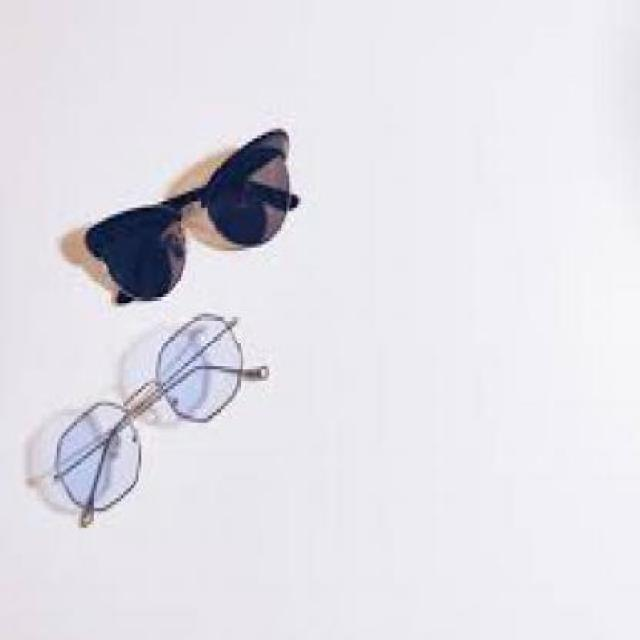gozluk: (76, 111, 307, 304)
